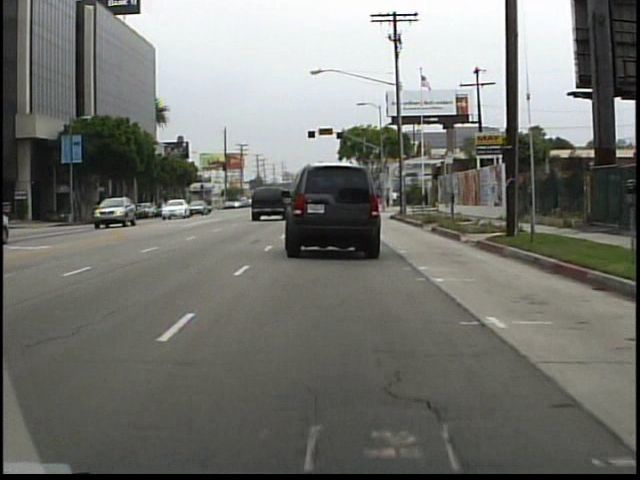person: (391, 187, 400, 208)
